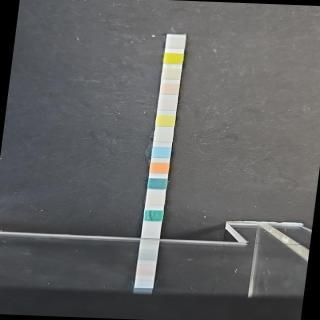mark: (159, 83, 180, 96), (151, 146, 172, 159), (161, 68, 181, 81), (165, 37, 186, 49), (164, 53, 184, 65), (154, 131, 174, 143), (148, 178, 168, 190), (144, 210, 164, 222), (156, 115, 176, 126), (158, 100, 177, 111), (150, 163, 169, 174), (146, 194, 165, 205)
